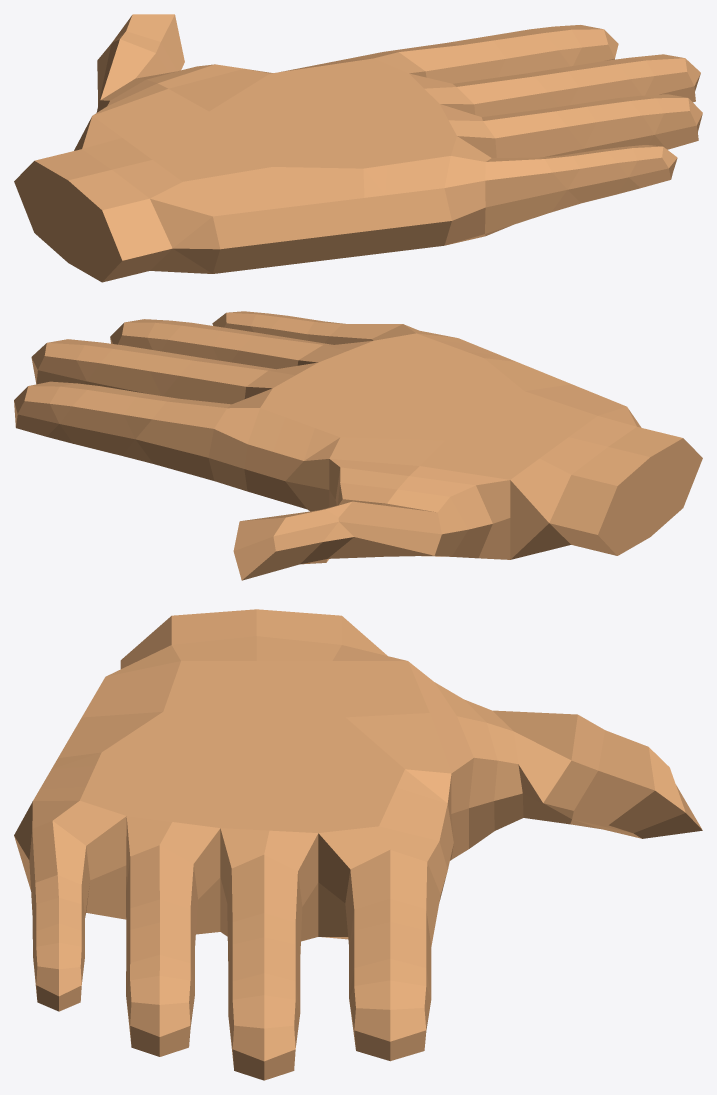
The model's file is right hand.fbx.
3 renders of one model, top to bottom at view 1: azimuth 30°, elevation 25°; view 2: azimuth 150°, elevation 25°; view 3: azimuth 270°, elevation 25°, orthographic. The views are drawn at different scales.
Parts seen in each view (by area): view 1: Cube; view 2: Cube; view 3: Cube.
Boxes of the visible parts, x1,y1,x2,y2 form: Cube: (14, 14, 702, 282); Cube: (14, 311, 702, 580); Cube: (14, 609, 702, 1080).
Bounding box in the file's own units: 492 × 63.89 × 367.
